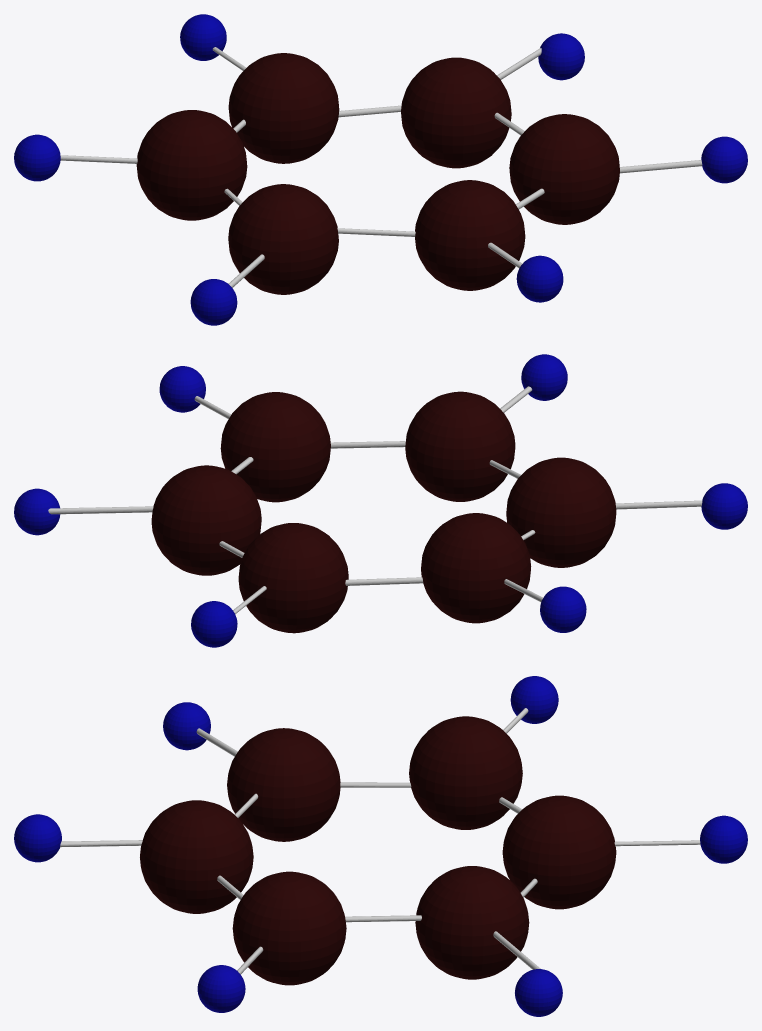
3 views of the same model, one above another, from view 1: azimuth 30°, elevation 25°; view 2: azimuth 150°, elevation 25°; view 3: azimuth 270°, elevation 25° (orthographic). The views are drawn at different scales.
Visible parts, largest first — view 1: Sphere.008, Sphere.007, Sphere.005, Sphere.004, Sphere.006, Sphere.009, Sphere.011, Sphere.010, Sphere.002, Sphere, Sphere.003, Sphere.001 (+1 smaller); view 2: Sphere.009, Sphere.008, Sphere.005, Sphere.007, Sphere.006, Sphere.004, Sphere.001, Sphere.010, Sphere, Sphere.011, Sphere.002, Sphere.003 (+4 smaller); view 3: Sphere.008, Sphere.004, Sphere.005, Sphere.006, Sphere.009, Sphere.007, Sphere.001, Sphere.002, Sphere.003, Sphere.011, Sphere.010, Sphere.
Boxes of the visible parts, bbox=[...] form: Sphere.008: bbox=[136, 110, 247, 220]; Sphere.007: bbox=[401, 57, 511, 168]; Sphere.005: bbox=[228, 53, 339, 163]; Sphere.004: bbox=[509, 114, 619, 224]; Sphere.006: bbox=[228, 184, 338, 294]; Sphere.009: bbox=[415, 180, 525, 290]; Sphere.011: bbox=[516, 255, 563, 302]; Sphere.010: bbox=[14, 134, 60, 181]; Sphere.002: bbox=[701, 136, 747, 183]; Sphere: bbox=[190, 279, 237, 325]; Sphere.003: bbox=[538, 33, 584, 80]; Sphere.001: bbox=[180, 14, 226, 60]; Sphere.009: bbox=[405, 391, 515, 501]; Sphere.008: bbox=[421, 513, 531, 623]; Sphere.005: bbox=[238, 523, 348, 633]; Sphere.007: bbox=[151, 465, 261, 575]; Sphere.006: bbox=[506, 457, 616, 567]; Sphere.004: bbox=[220, 392, 330, 502]; Sphere.001: bbox=[191, 601, 237, 647]; Sphere.010: bbox=[540, 586, 586, 632]; Sphere: bbox=[701, 483, 747, 529]; Sphere.011: bbox=[521, 354, 567, 400]; Sphere.002: bbox=[159, 366, 205, 412]; Sphere.003: bbox=[14, 488, 60, 535]; Sphere.008: bbox=[409, 716, 522, 829]; Sphere.004: bbox=[232, 871, 346, 985]; Sphere.005: bbox=[502, 795, 616, 909]; Sphere.006: bbox=[227, 728, 340, 841]; Sphere.009: bbox=[140, 800, 253, 913]; Sphere.007: bbox=[415, 866, 529, 979]; Sphere.001: bbox=[700, 815, 747, 863]; Sphere.002: bbox=[197, 965, 245, 1012]; Sphere.003: bbox=[515, 969, 562, 1016]; Sphere.011: bbox=[14, 814, 61, 862]; Sphere.010: bbox=[510, 676, 558, 723]; Sphere: bbox=[163, 702, 210, 750].
Bounding box in the file's own units: 13.11 × 2.52 × 14.12.
